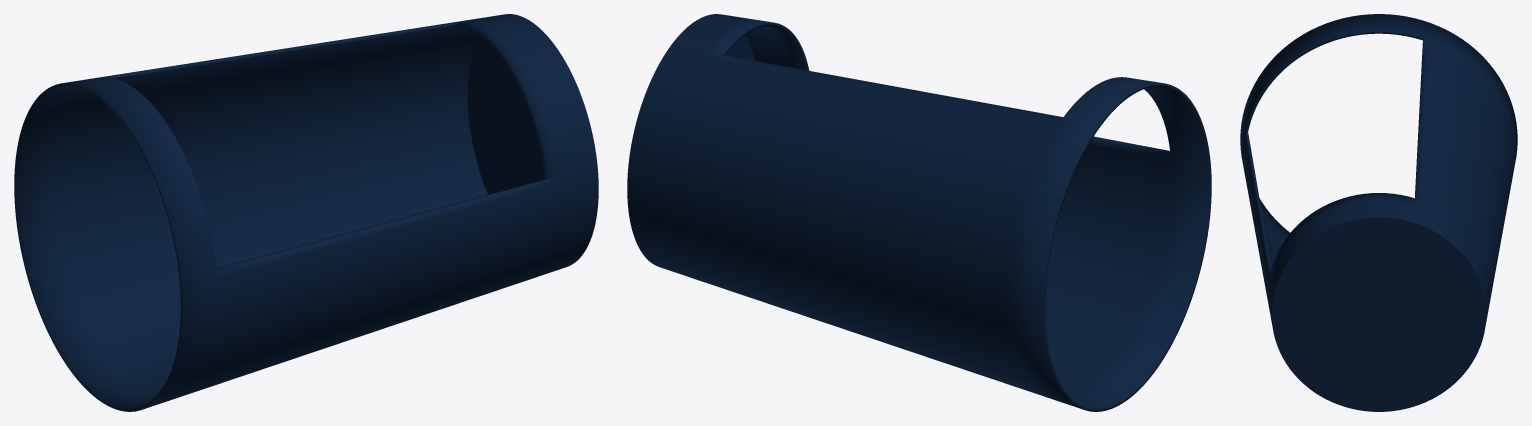
The model's file is thruster.glb.
3 views of the same model, side by side, from view 1: azimuth 30°, elevation 25°; view 2: azimuth 150°, elevation 25°; view 3: azimuth 270°, elevation 25° (orthographic). The views are drawn at different scales.
Visible parts, largest first — view 1: thruster; view 2: thruster; view 3: thruster.
Part boxes in pixels (box(x1,y1,x2,y2)): thruster: box(14, 14, 598, 411); thruster: box(627, 14, 1211, 411); thruster: box(1240, 14, 1517, 411).
Size of the model in its own units: 0.8829 by 0.5911 by 0.5911.
